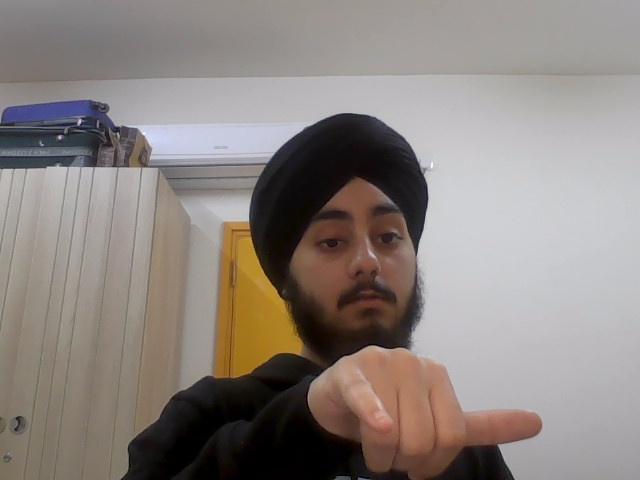Same: (307, 336, 550, 480)
